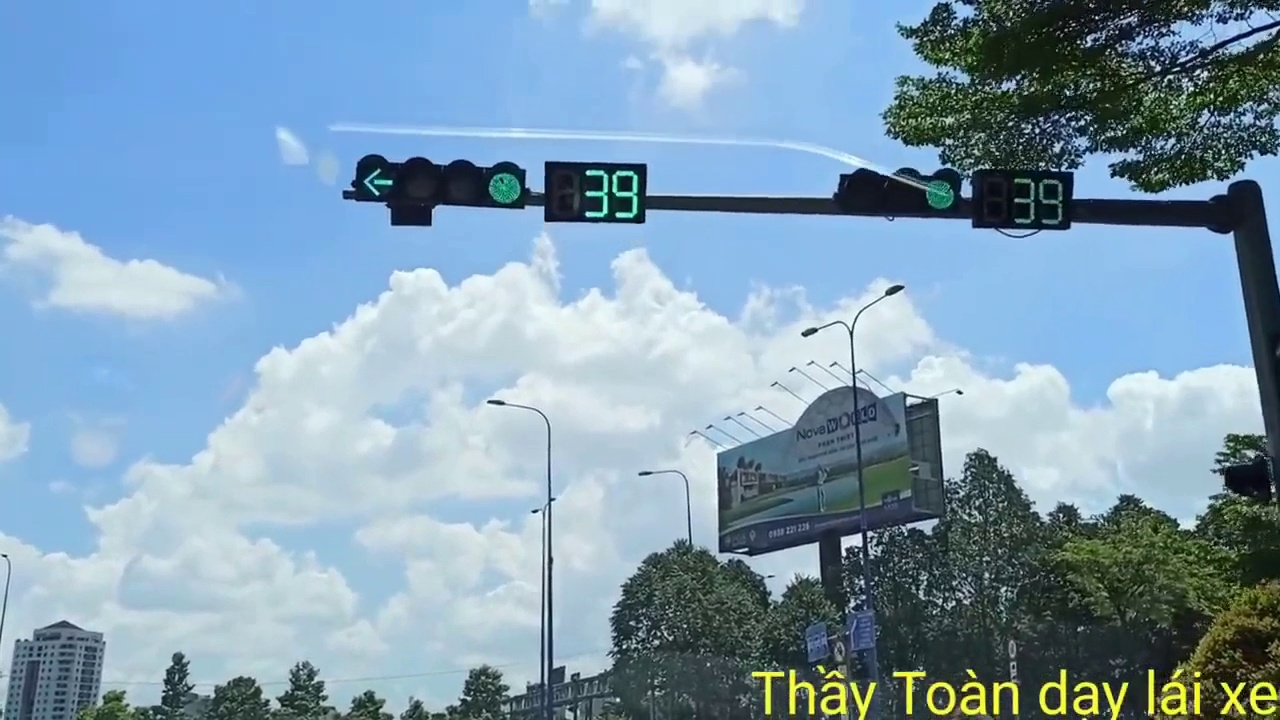Chỉ hướng đường: (841, 608, 880, 652)
Cấm xe máy: (830, 633, 847, 660)
Khác: (1002, 635, 1021, 681)
Làn đường cho từng xe: (798, 623, 831, 661)
